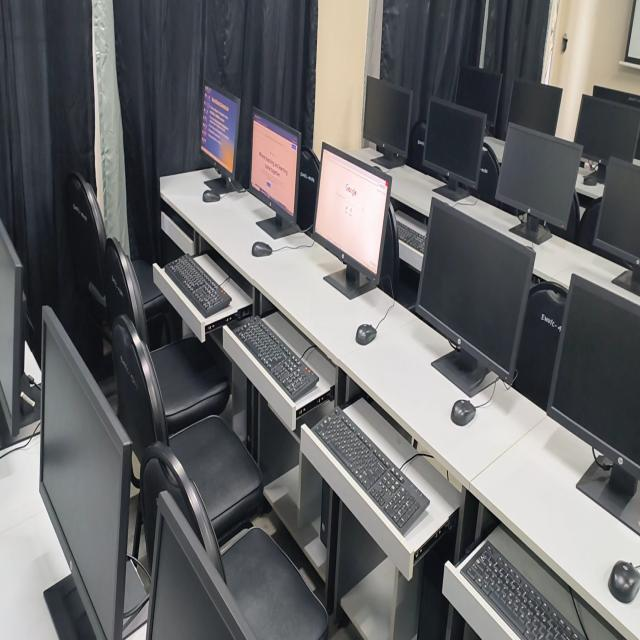Chair: (142, 443, 328, 639), (112, 315, 263, 535), (150, 338, 229, 431), (512, 281, 566, 410), (66, 172, 107, 304), (105, 239, 150, 350), (378, 209, 400, 299), (297, 146, 320, 230), (348, 266, 355, 283)
Cpu: (320, 480, 330, 546)
Keyboard: (309, 409, 430, 537), (461, 540, 585, 639), (231, 316, 319, 402), (164, 255, 230, 318), (396, 213, 425, 271)
Monitor: (40, 307, 148, 639), (414, 198, 535, 395), (548, 276, 640, 478), (495, 123, 582, 244), (314, 145, 391, 281), (152, 518, 233, 639), (0, 219, 39, 446), (423, 97, 485, 201), (250, 110, 299, 220), (592, 158, 640, 269), (363, 76, 412, 169), (574, 95, 640, 164), (201, 82, 240, 177), (456, 66, 501, 134), (509, 79, 562, 135), (593, 85, 640, 108)
